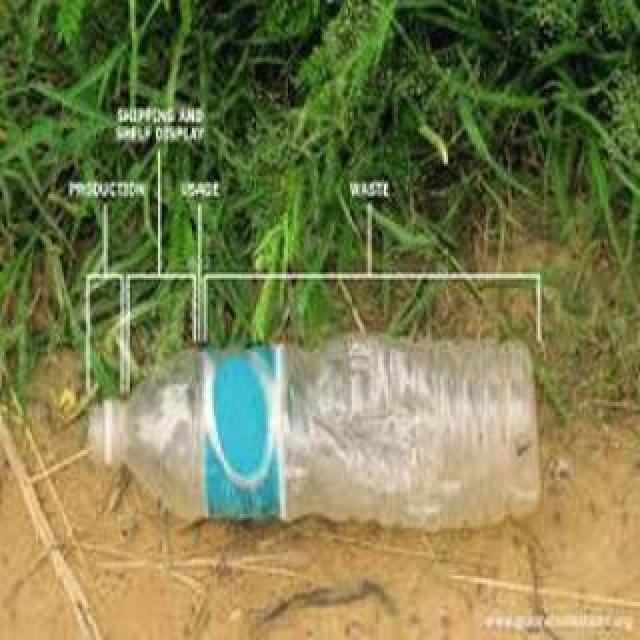Pet_Bottle: (83, 340, 549, 528)
